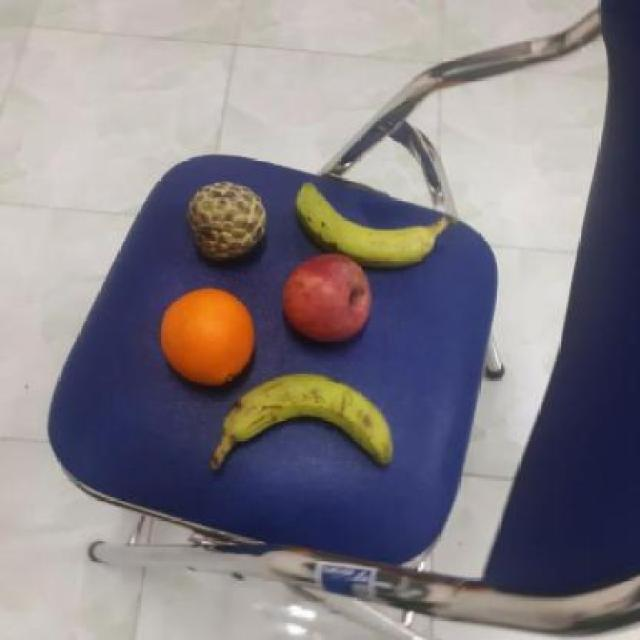apple: (276, 254, 373, 341)
banana: (223, 368, 395, 470), (290, 176, 432, 270)
oren: (153, 288, 258, 388)
sugar apple: (182, 178, 270, 260)
